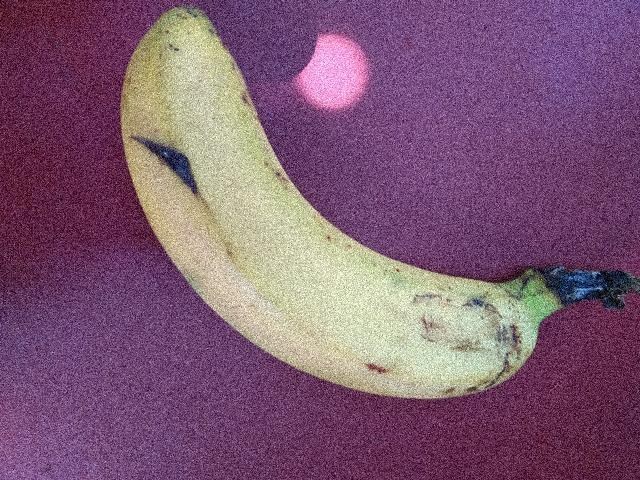ripe: (128, 10, 567, 426)
